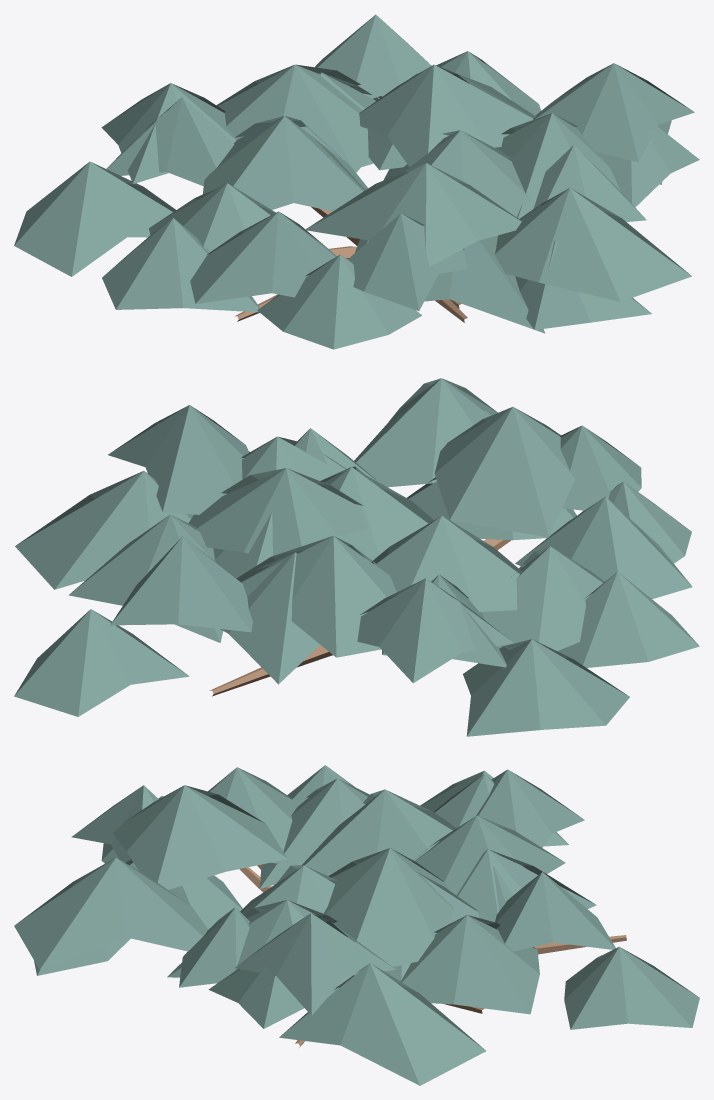
File: temperate-forest-ecology-low-juniper-d1e449f7__3810.glb
3 views of the same model, one above another, from view 1: azimuth 30°, elevation 25°; view 2: azimuth 150°, elevation 25°; view 3: azimuth 270°, elevation 25° (orthographic). The views are drawn at different scales.
Parts seen in each view (by area): view 1: low-juniper; view 2: low-juniper; view 3: low-juniper.
Boxes of the visible parts, <box> form: low-juniper: <box>14,14,699,349</box>; low-juniper: <box>14,378,699,736</box>; low-juniper: <box>14,765,699,1085</box>.
Size of the model in its own units: 2.63 by 0.6898 by 2.66.
